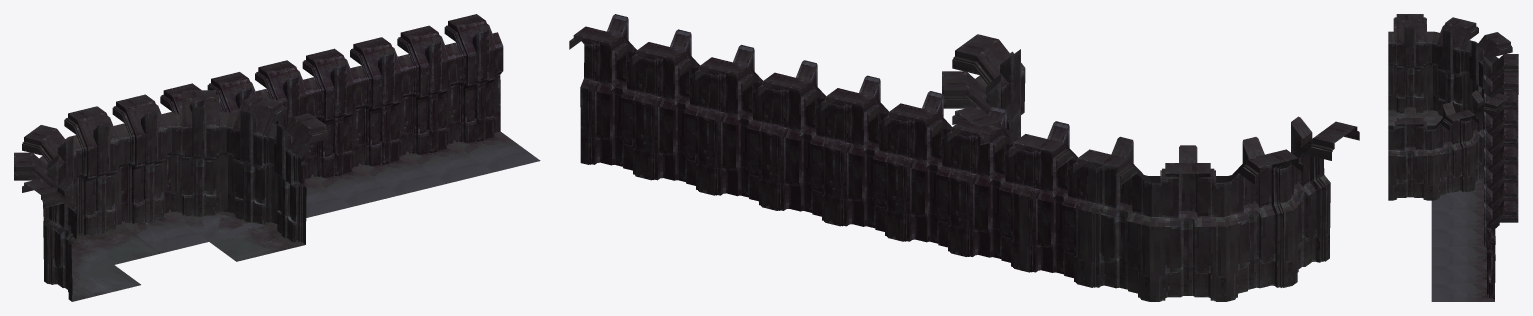
Rendered from NewInnerWallSegments.fbx.
3 views of the same model, side by side, from view 1: azimuth 30°, elevation 25°; view 2: azimuth 150°, elevation 25°; view 3: azimuth 270°, elevation 25° (orthographic). The views are drawn at different scales.
Visible parts, largest first — view 1: Inner Wall Segment 40m, Inner Wall Corner R, Inner Wall Corner L; view 2: Inner Wall Segment 40m, Inner Wall Corner L, Inner Wall Corner R; view 3: Inner Wall Segment 40m, Inner Wall Corner L, Inner Wall Corner R.
Boxes of the visible parts, x1,y1,x2,y2 form: Inner Wall Segment 40m: (116,14,540,252); Inner Wall Corner R: (112,90,328,261); Inner Wall Corner L: (14,106,161,301); Inner Wall Segment 40m: (569,14,1088,283); Inner Wall Corner L: (1073,116,1359,301); Inner Wall Corner R: (942,34,1088,285); Inner Wall Segment 40m: (1431,73,1518,301); Inner Wall Corner L: (1388,14,1518,125); Inner Wall Corner R: (1388,72,1518,200).
Bounding box in the file's own units: 5506 × 1130 × 1506.
